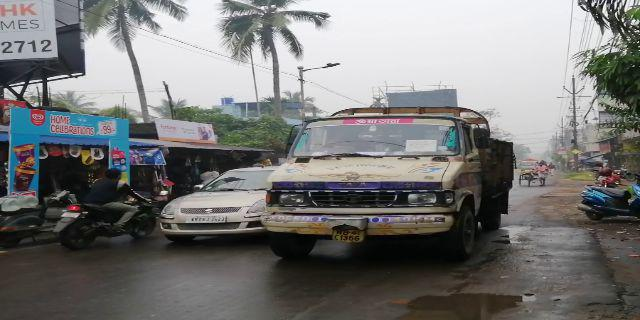Car: (163, 167, 268, 237)
Motorbike: (63, 173, 156, 244)
Truck: (267, 115, 512, 249)
